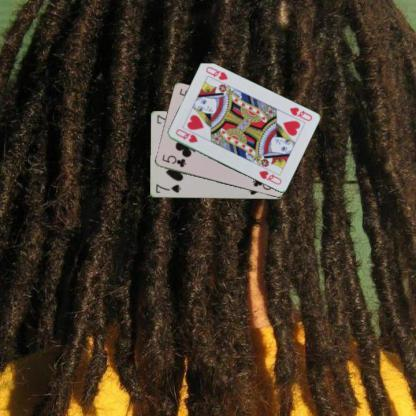5c: (160, 151, 188, 169)
7s: (153, 182, 182, 194)
Qh: (286, 104, 314, 122), (173, 127, 199, 144)
